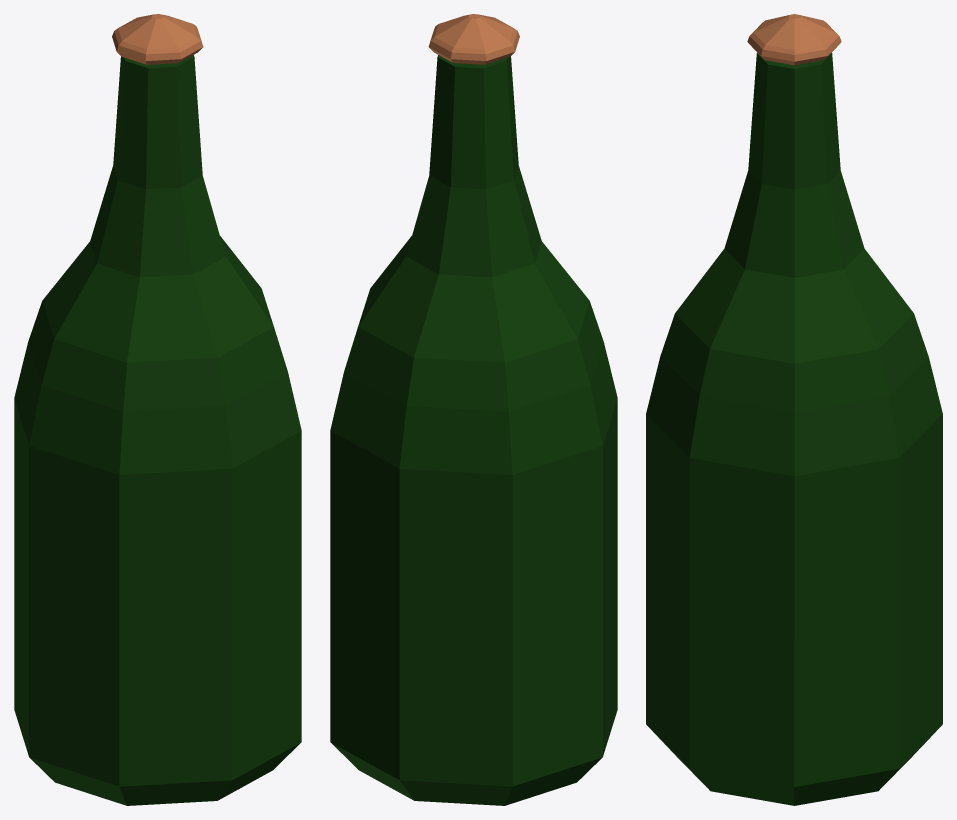
The model's file is bottle with a cork.fbx.
The picture shows the model from 3 angles, left to right: view 1: azimuth 30°, elevation 25°; view 2: azimuth 150°, elevation 25°; view 3: azimuth 270°, elevation 25°; orthographic projection.
Parts seen in each view (by area): view 1: korek.001; view 2: korek.001; view 3: korek.001.
Boxes of the visible parts, x1,y1,x2,y2 form: korek.001: (14, 14, 301, 805); korek.001: (330, 14, 617, 805); korek.001: (646, 14, 942, 805).
Bounding box in the file's own units: 11.38 × 31.28 × 11.38.
